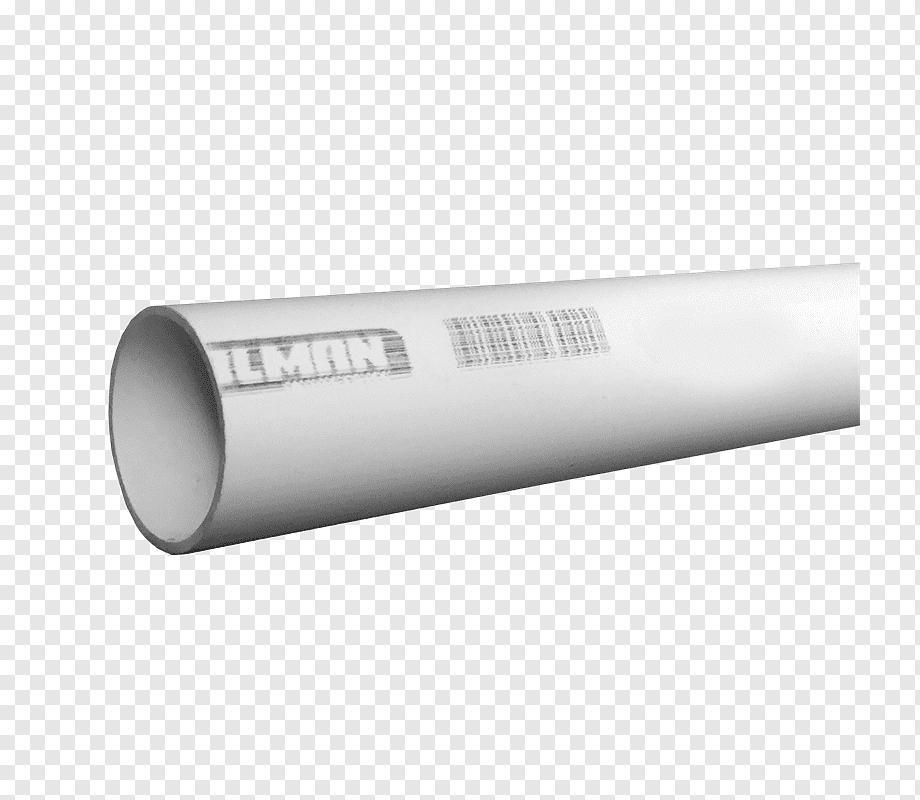PVC: (0, 133, 920, 701)
